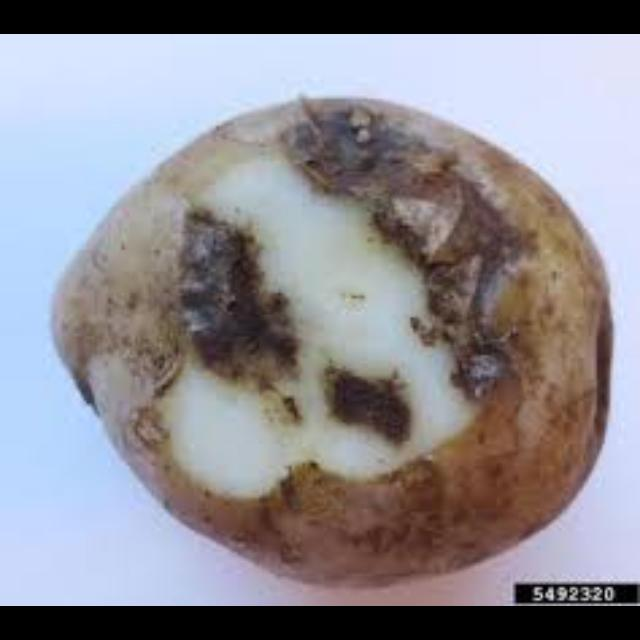Diseased-fungal potato: (38, 68, 622, 586)
